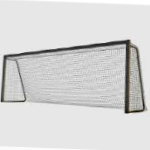goals: (1, 39, 147, 116)
